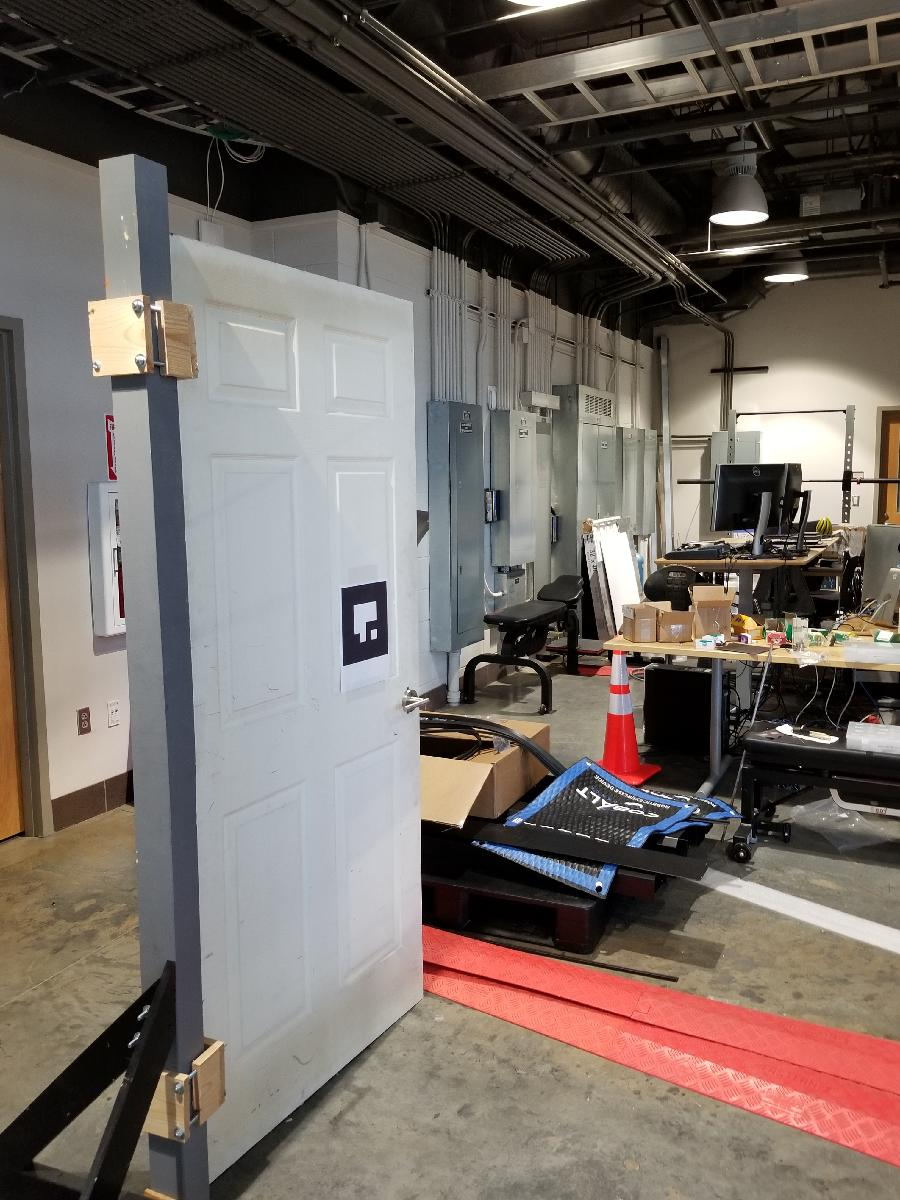door: (157, 230, 430, 1192)
doorHandle: (395, 684, 432, 715)
